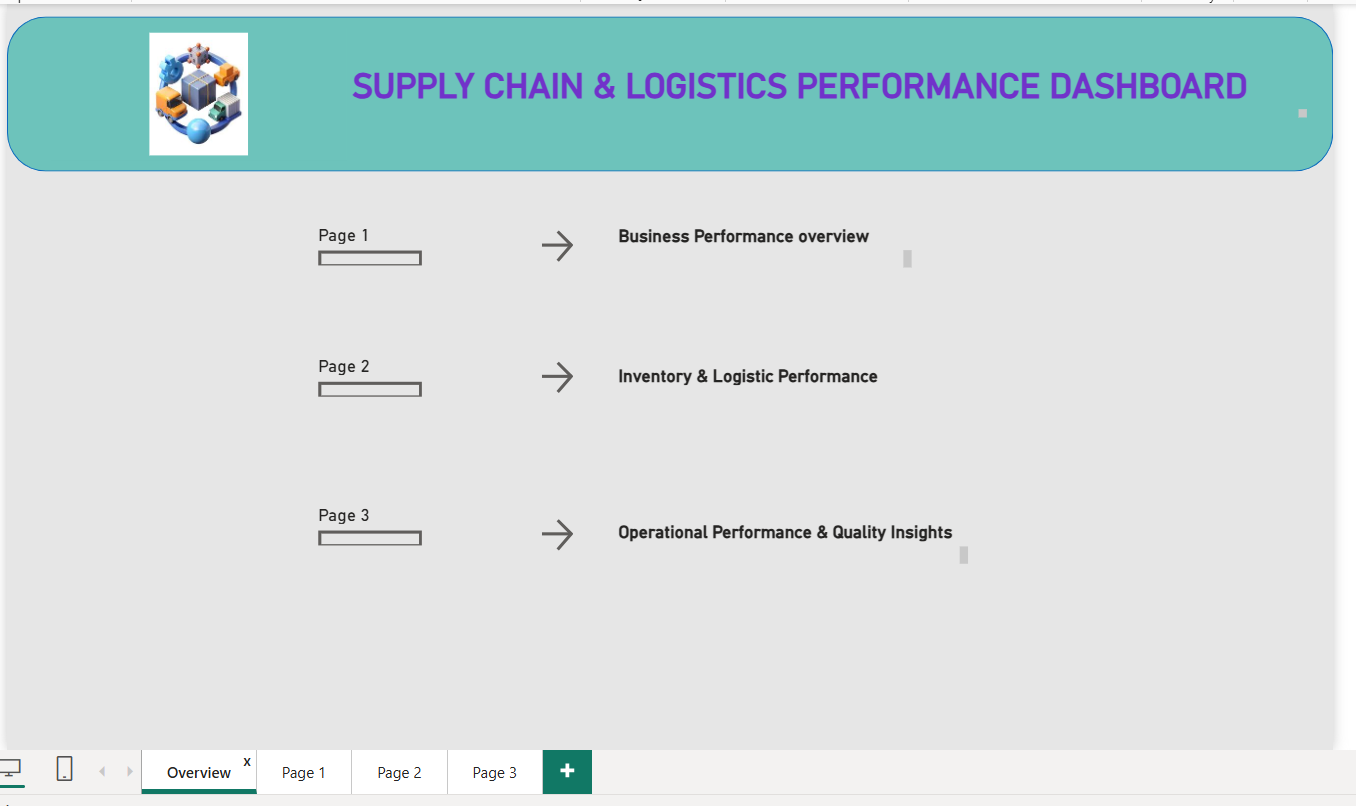

This screenshot's page, from the dashboard's own definition file:
{"tool":"powerbi","page":{"name":"Overview","canvas":[1280,720],"ordinal":0},"visuals":[{"type":"actionButton","title":"Page 1","box":[300.8,212.8,100.3,40.4],"z":0},{"type":"actionButton","title":"Page 2","box":[300.8,338.7,100.3,40.4],"z":1000},{"type":"actionButton","title":"Page 3","box":[300.8,483,100.3,40.4],"z":2000},{"type":"actionButton","box":[509.9,214,100.3,40.4],"z":3000},{"type":"actionButton","box":[509.9,339.9,100.3,40.4],"z":4000},{"type":"actionButton","box":[509.9,492.8,225,40.4],"z":5000},{"type":"shape","box":[0,12.1,1280,149.6],"z":6000},{"type":"textbox","title":"SUPPLY CHAIN & LOGISTICS PERFORMANCE DASHBOARD","box":[328.2,59.1,931.4,55.5],"z":7000},{"type":"textbox","title":"Business Performance overview","box":[585.1,213.5,293.2,45.8],"z":8000},{"type":"textbox","title":"Inventory & Logistic Performance","box":[585.1,348.7,466.9,62.7],"z":9000},{"type":"textbox","title":"Operational Performance & Quality Insights","box":[585.1,499.5,347.5,45.8],"z":10000},{"type":"image","box":[42.2,22.9,285.9,127.9],"z":10001}]}

Visuals, with their boxes on the page's 1280x720 design canvas (x1, y1, x2, y2). These are canvas units, not pixel positions in the 1356x806 screenshot, which may show the page scaled, cropped or inside an application window:
"Page 1" actionButton: x1=301, y1=213, x2=401, y2=253
"Page 2" actionButton: x1=301, y1=339, x2=401, y2=379
"Page 3" actionButton: x1=301, y1=483, x2=401, y2=523
actionButton: x1=510, y1=214, x2=610, y2=254
actionButton: x1=510, y1=340, x2=610, y2=380
actionButton: x1=510, y1=493, x2=735, y2=533
shape: x1=0, y1=12, x2=1280, y2=162
"SUPPLY CHAIN & LOGISTICS PERFORMANCE DASHBOARD" textbox: x1=328, y1=59, x2=1260, y2=115
"Business Performance overview" textbox: x1=585, y1=214, x2=878, y2=259
"Inventory & Logistic Performance" textbox: x1=585, y1=349, x2=1052, y2=411
"Operational Performance & Quality Insights" textbox: x1=585, y1=500, x2=933, y2=545
image: x1=42, y1=23, x2=328, y2=151
